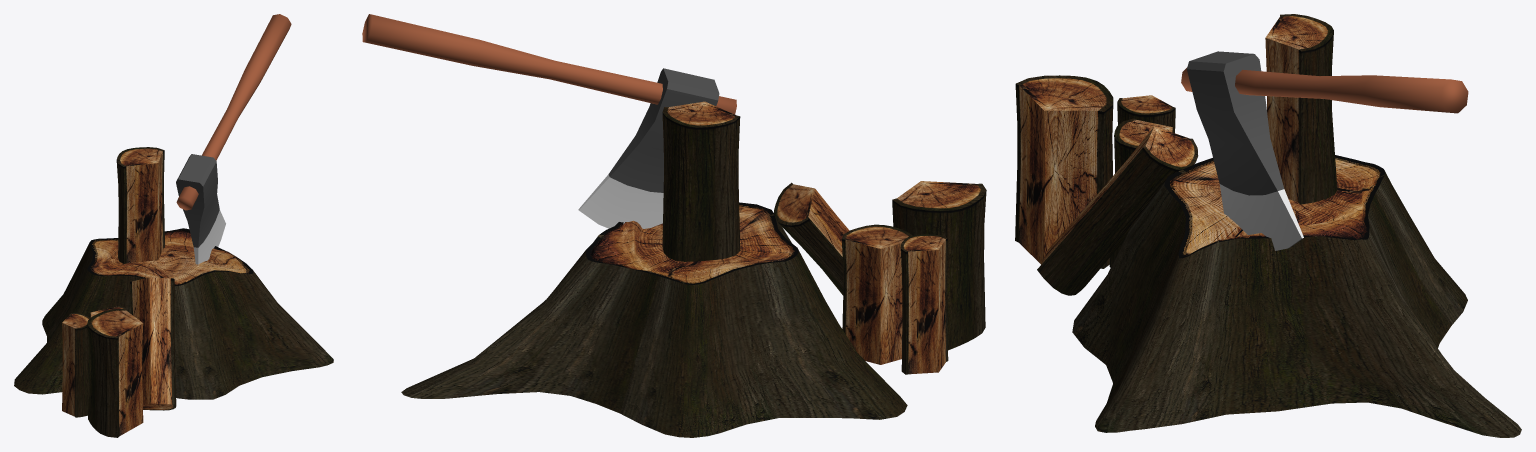
Rendered from loggingyard.fbx.
3 renders of one model, left to right at view 1: azimuth 30°, elevation 25°; view 2: azimuth 150°, elevation 25°; view 3: azimuth 270°, elevation 25°, orthographic. The views are drawn at different scales.
Parts seen in each view (by area): view 1: kirikabu, maki2, maki2.003, maki2.001, axe1, axe2, maki2.002; view 2: kirikabu, maki2.003, maki2, maki2.004, axe1, axe2, maki2.002, maki2.001; view 3: kirikabu, maki2, axe2, maki2.003, maki2.001, axe1, maki2.002, maki2.004.
Part boxes in pixels (x1=…): kirikabu: x1=14, y1=228, x2=333, y2=399; maki2: x1=87, y1=308, x2=143, y2=437; maki2.003: x1=116, y1=147, x2=164, y2=263; maki2.001: x1=130, y1=277, x2=176, y2=410; axe1: x1=176, y1=14, x2=291, y2=210; axe2: x1=176, y1=154, x2=225, y2=264; maki2.002: x1=62, y1=313, x2=90, y2=417; kirikabu: x1=401, y1=202, x2=907, y2=437; maki2.003: x1=662, y1=101, x2=740, y2=261; maki2: x1=892, y1=181, x2=986, y2=350; maki2.004: x1=841, y1=224, x2=912, y2=364; axe1: x1=362, y1=14, x2=736, y2=114; axe2: x1=578, y1=68, x2=719, y2=228; maki2.002: x1=900, y1=234, x2=948, y2=374; maki2.001: x1=773, y1=182, x2=849, y2=295; kirikabu: x1=1072, y1=155, x2=1521, y2=437; maki2: x1=1015, y1=75, x2=1113, y2=268; axe2: x1=1187, y1=51, x2=1303, y2=250; maki2.003: x1=1265, y1=14, x2=1337, y2=204; maki2.001: x1=1037, y1=126, x2=1198, y2=295; axe1: x1=1181, y1=67, x2=1468, y2=113; maki2.002: x1=1117, y1=95, x2=1175, y2=133; maki2.004: x1=1109, y1=118, x2=1172, y2=267.
Size of the model in its own units: 106 by 77.81 by 89.08.
9 materials, 6 textured.
